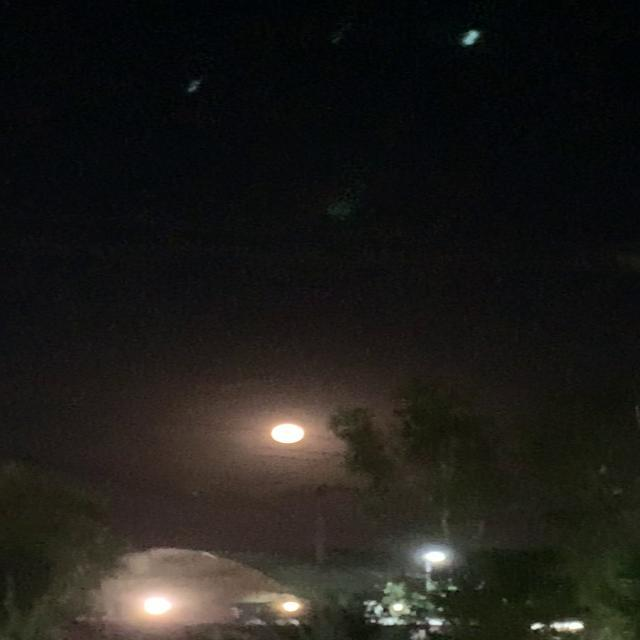moon: (262, 420, 315, 444)
